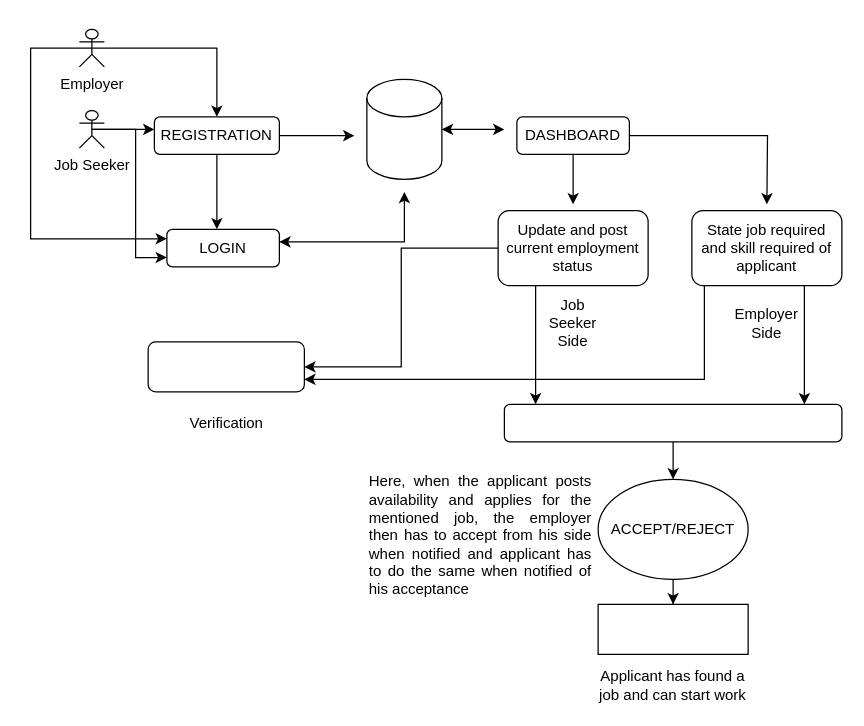
Image size: 864x726. Some labels were removed from this diagram. The shapes that lost their labels are listed below. From the top down, each one's box as (x1, y1, x2, y2) in pixels, then its label:
(366, 78, 442, 179): Supabase
(147, 341, 304, 392): ADMIN
(503, 403, 842, 442): Notification Panel
(597, 603, 748, 654): SUCCESS
